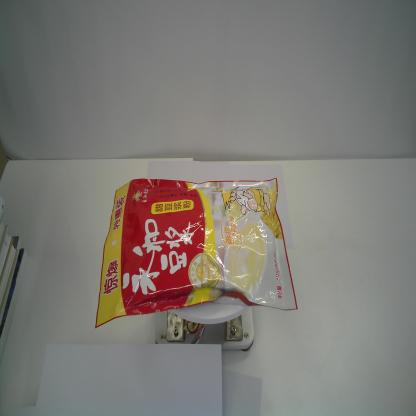Instant Drink: (94, 175, 299, 329)
